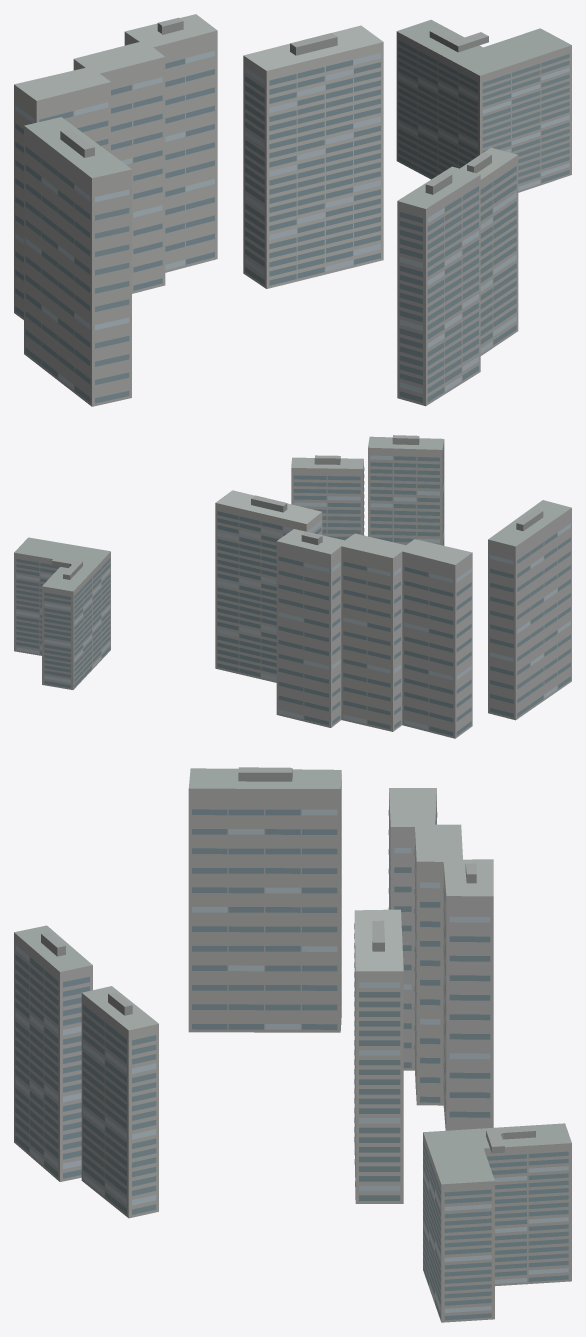
The model's file is apt-a15210210.glb.
The picture shows the model from 3 angles, top to bottom: view 1: azimuth 30°, elevation 25°; view 2: azimuth 150°, elevation 25°; view 3: azimuth 270°, elevation 25°; orthographic projection. The views are drawn at different scales.
Parts seen in each view (by area): view 1: apt-a15210210; view 2: apt-a15210210; view 3: apt-a15210210.
Part boxes in pixels (x1,y1,x2,y2): apt-a15210210: (14, 14, 571, 406); apt-a15210210: (14, 435, 571, 738); apt-a15210210: (14, 767, 571, 1322).
Bounding box in the file's own units: 179 × 68 × 136.
